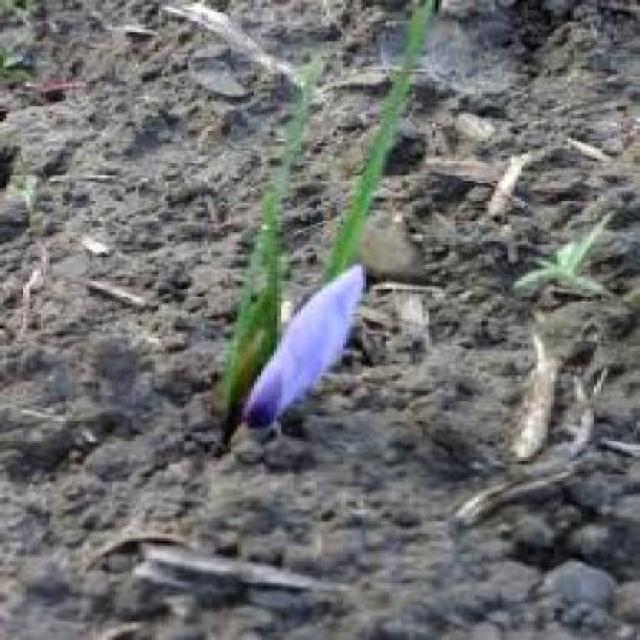Flower: (230, 264, 370, 430)
